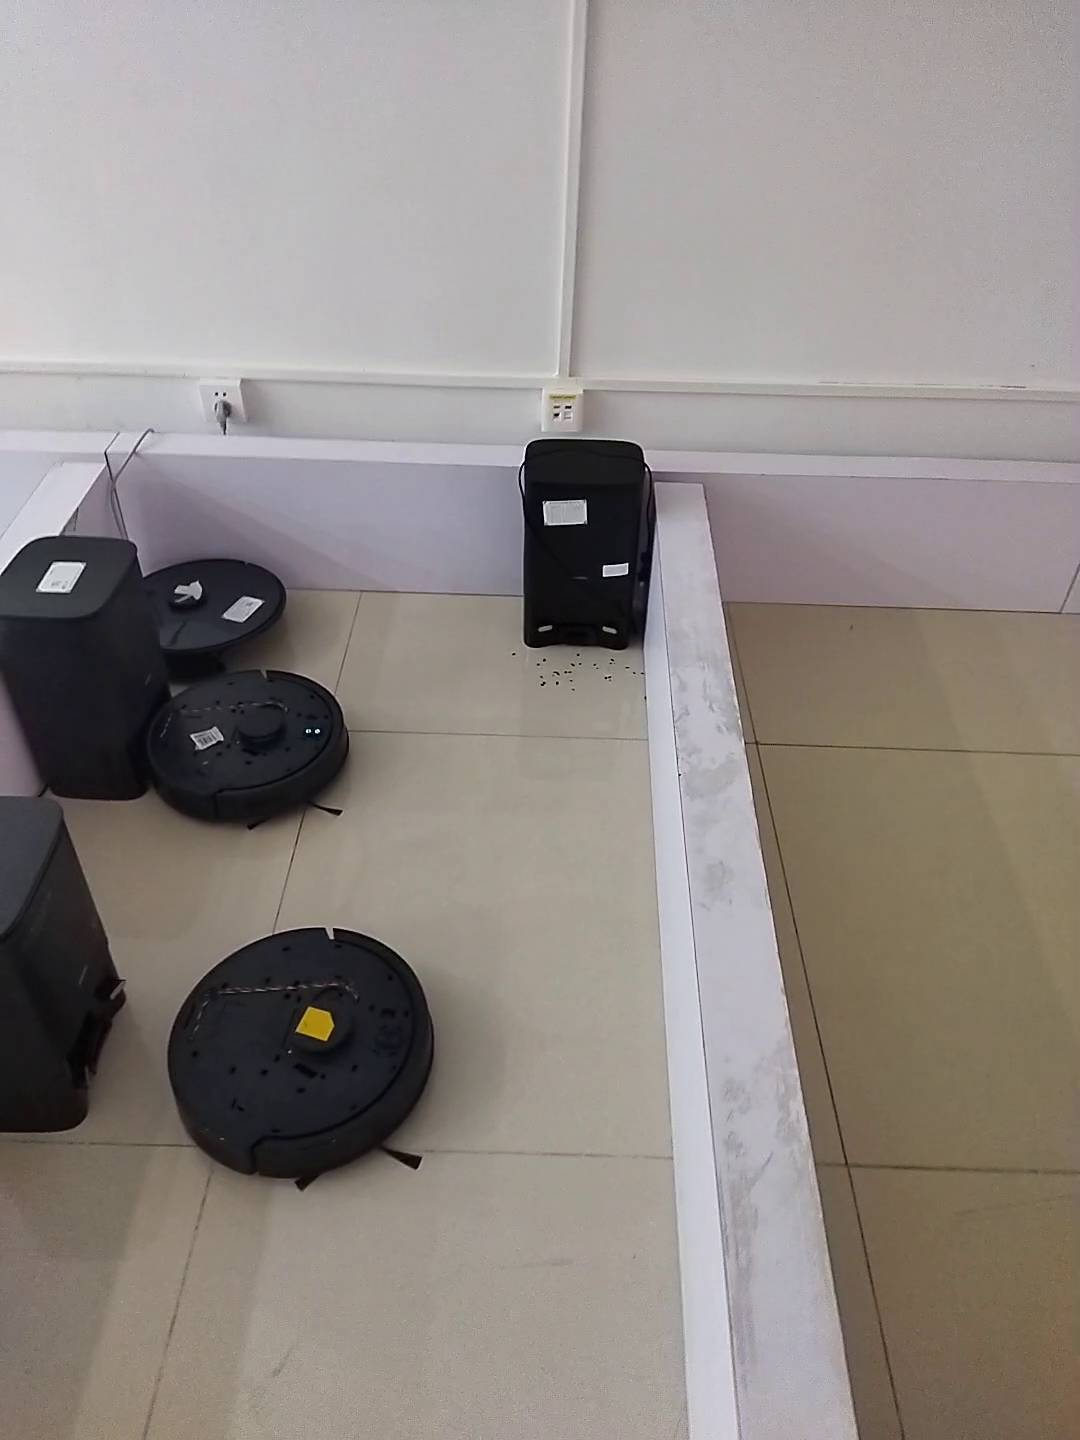dust collecting barrel: (1, 533, 178, 799), (1, 791, 128, 1133), (521, 441, 655, 651)
